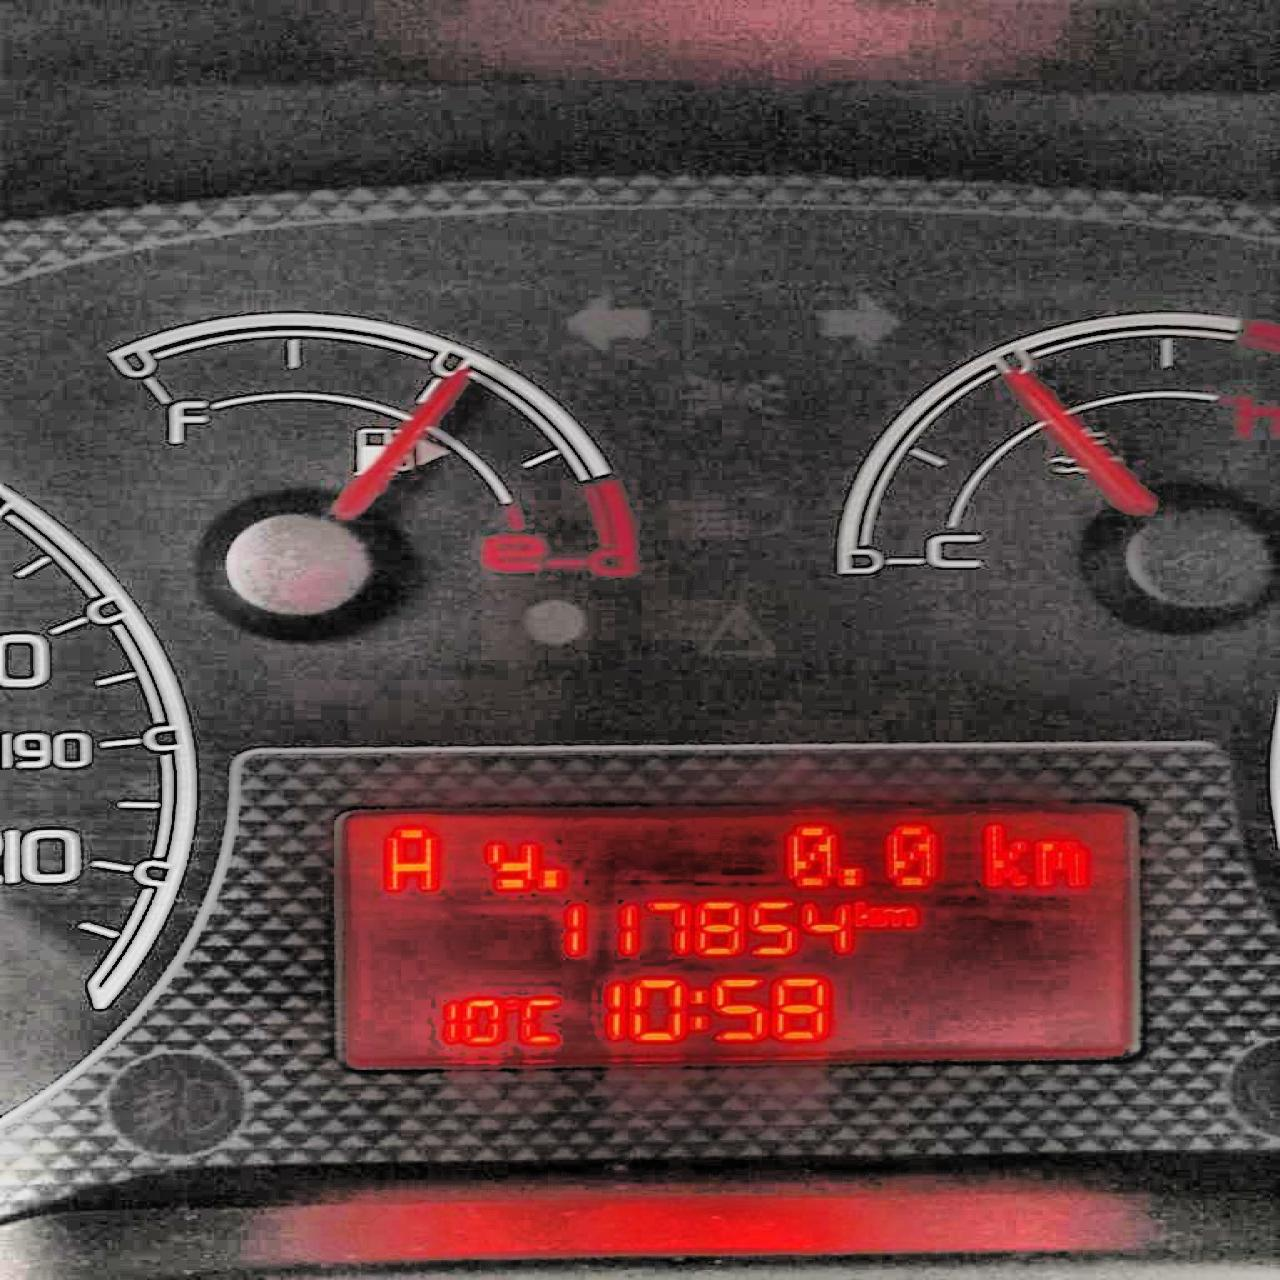-: (539, 865, 566, 890), (839, 864, 864, 888)
0: (625, 974, 685, 1044), (880, 821, 939, 890), (782, 821, 837, 890), (462, 994, 502, 1048)
1: (601, 976, 625, 1050), (560, 899, 586, 962), (613, 898, 639, 961), (441, 996, 459, 1050)
4: (798, 900, 851, 955)
5: (708, 973, 769, 1042), (749, 892, 794, 959)
7: (645, 896, 692, 959)
8: (770, 973, 832, 1042), (695, 892, 744, 956)
X: (379, 825, 441, 891), (980, 818, 1029, 892), (1032, 835, 1090, 887), (484, 837, 537, 893), (519, 993, 564, 1050), (879, 901, 919, 928), (690, 979, 707, 1037), (852, 896, 879, 930)
odometer: (326, 794, 1150, 1074)
